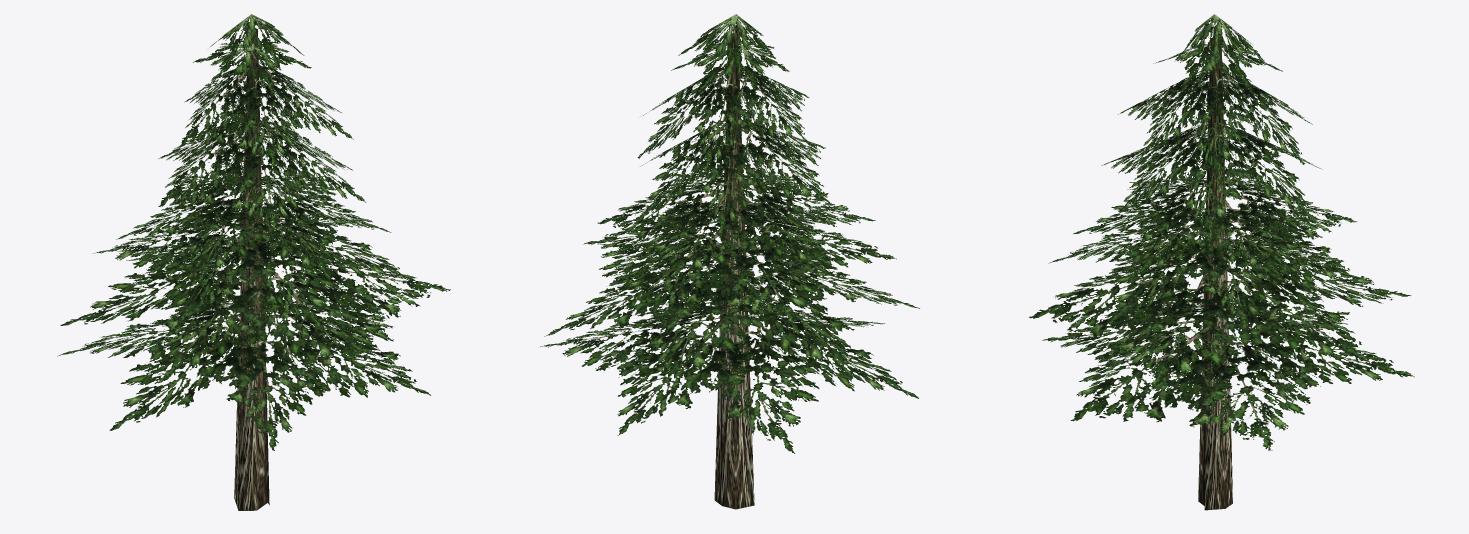
The model's file is tree_pine_05.dae.
The picture shows the model from 3 angles, left to right: view 1: azimuth 30°, elevation 25°; view 2: azimuth 150°, elevation 25°; view 3: azimuth 270°, elevation 25°; orthographic projection.
Visible parts, largest first — view 1: mr5; view 2: mr5; view 3: mr5.
Part boxes in pixels (x1,y1,x2,y2): mr5: [57, 14, 450, 510]; mr5: [538, 14, 919, 509]; mr5: [1029, 14, 1414, 510].
Bounding box in the file's own units: 15.11 × 18.53 × 15.74.
